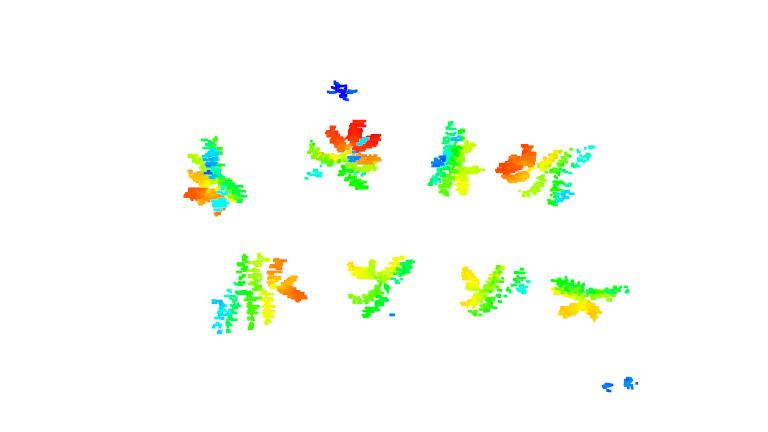chickpea: (207, 252, 309, 337), (492, 138, 597, 209), (300, 117, 385, 197), (178, 133, 252, 221), (344, 251, 416, 319), (423, 124, 487, 196), (458, 260, 533, 317), (549, 274, 624, 322)
